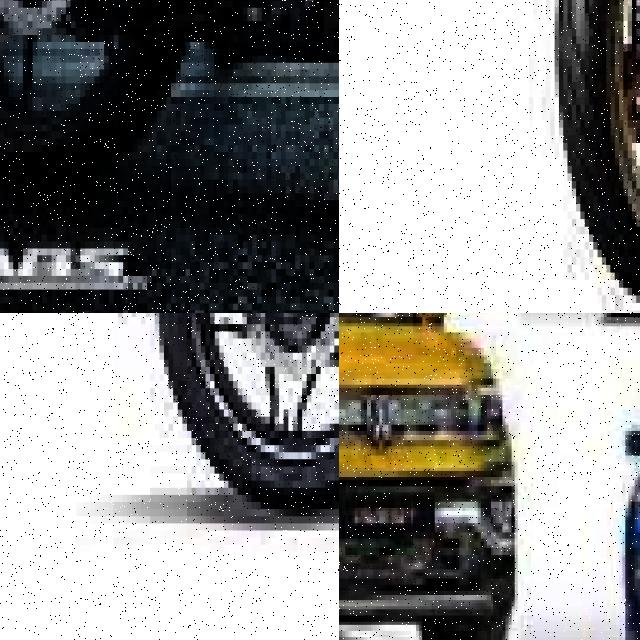bike: (0, 0, 339, 276), (132, 313, 339, 530), (550, 0, 640, 313)
car: (339, 313, 523, 640), (564, 313, 640, 640)
